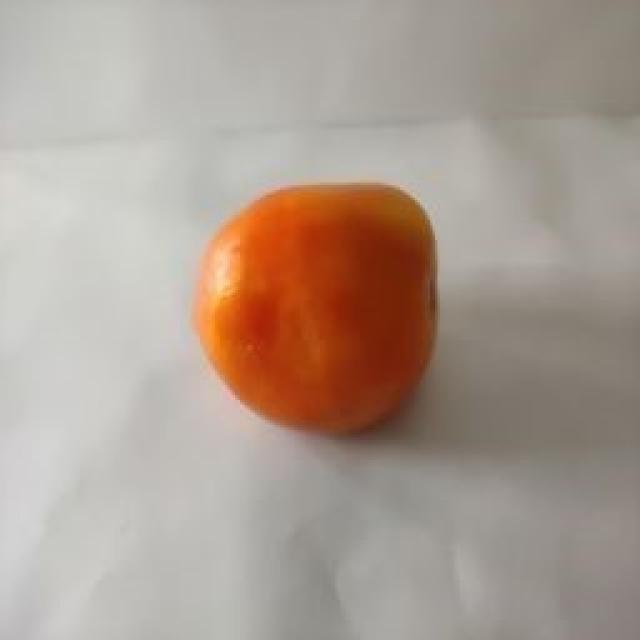Ripe: (182, 179, 448, 441)
